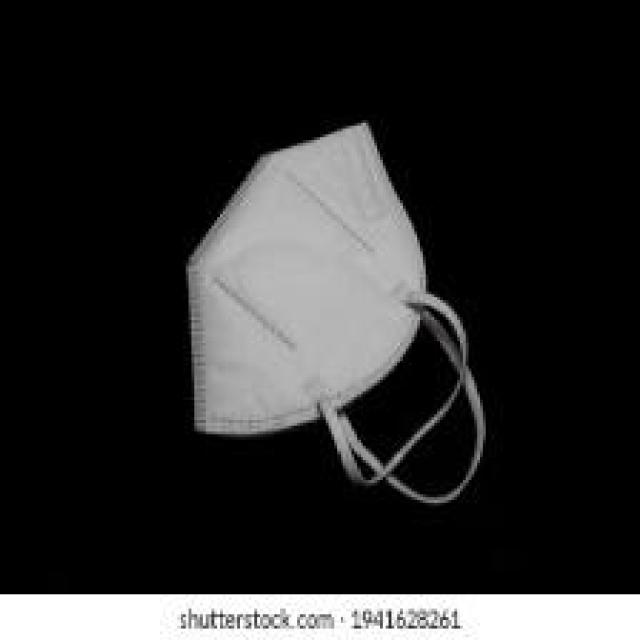Mask: (160, 134, 501, 510)
